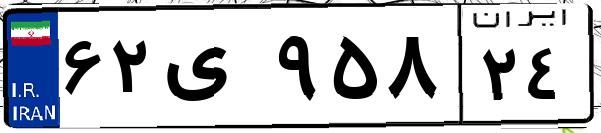2: (475, 38, 525, 113), (110, 28, 158, 98)
4: (525, 38, 570, 115)
5: (330, 28, 385, 110)
6: (57, 26, 110, 100)
8: (385, 28, 445, 110)
9: (270, 28, 330, 110)
ی: (158, 20, 270, 120)
